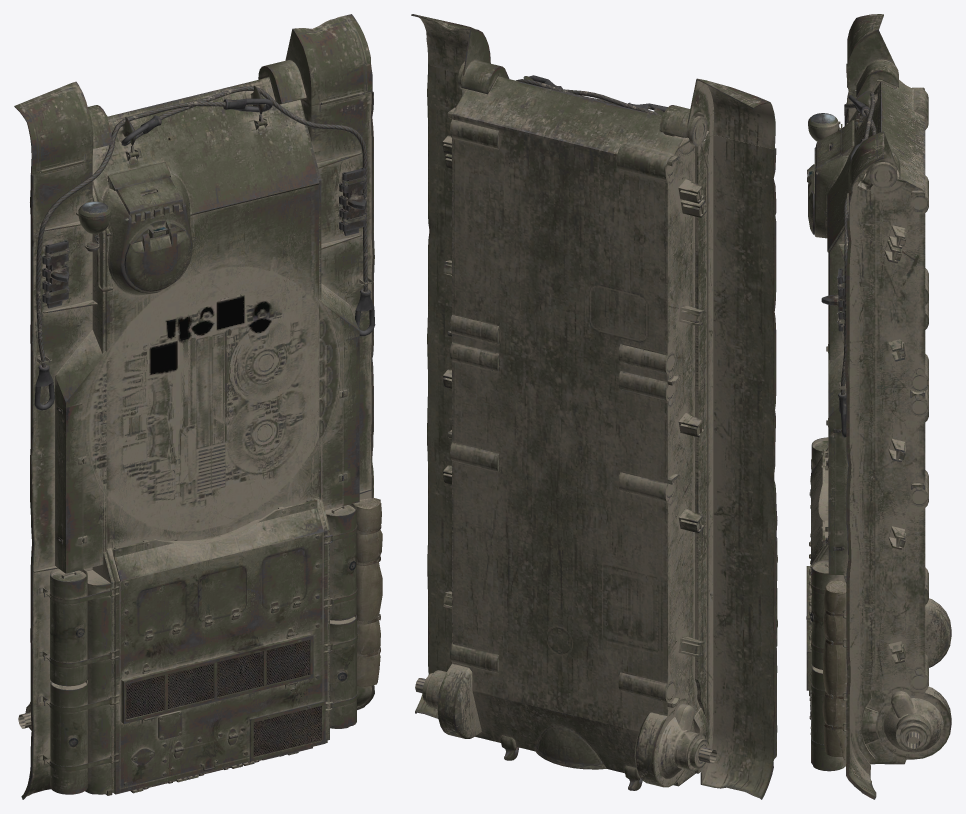
The model's file is Hull.glb.
3 views of the same model, side by side, from view 1: azimuth 30°, elevation 25°; view 2: azimuth 150°, elevation 25°; view 3: azimuth 270°, elevation 25° (orthographic). The views are drawn at different scales.
Parts seen in each view (by area): view 1: set_0_group_0; view 2: set_0_group_0; view 3: set_0_group_0.
Part boxes in pixels (x1=…): set_0_group_0: x1=14, y1=14, x2=382, y2=799; set_0_group_0: x1=411, y1=14, x2=777, y2=799; set_0_group_0: x1=806, y1=14, x2=951, y2=799.
Bounding box in the file's own units: 3.16 × 6.17 × 1.24.
Materials: 1 (1 with a texture image).
